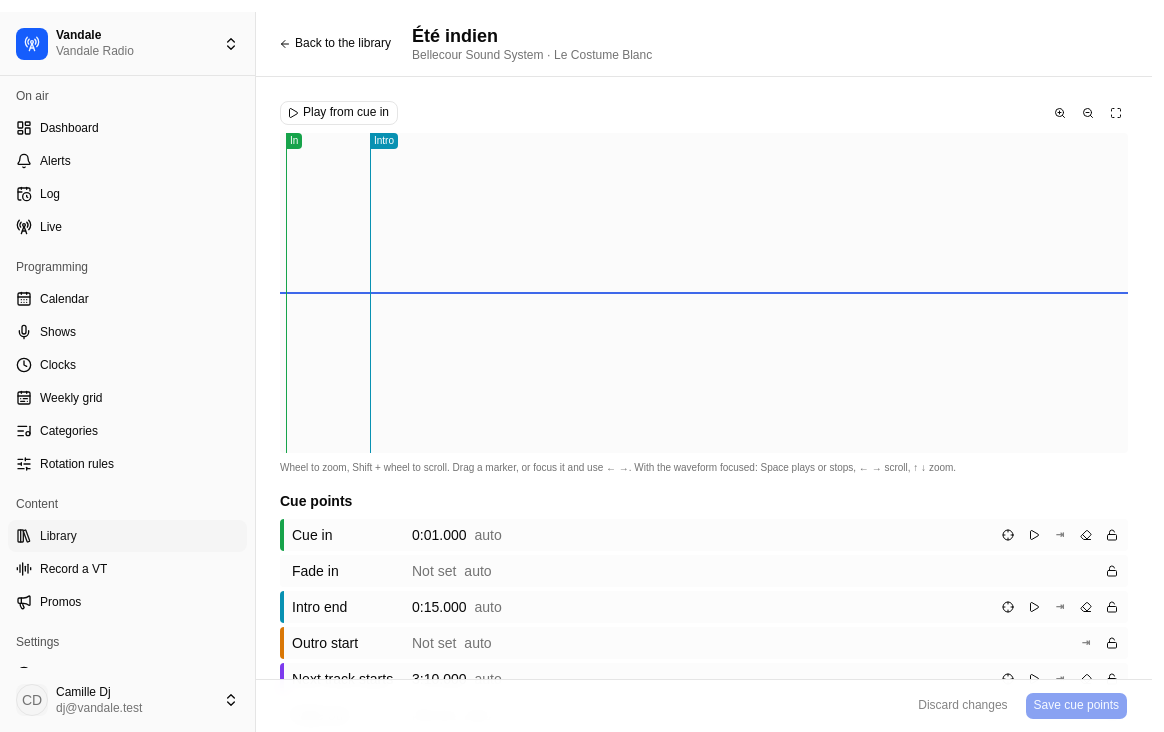
Test case: cue editor page › saves a moved marker
This screenshot has width=1164, height=732.
Check: the button "Save cue points" is disabled, box [1025,692,1128,720]
Press ArrowRight in the slider named "Cue in", box [286,133,302,149]
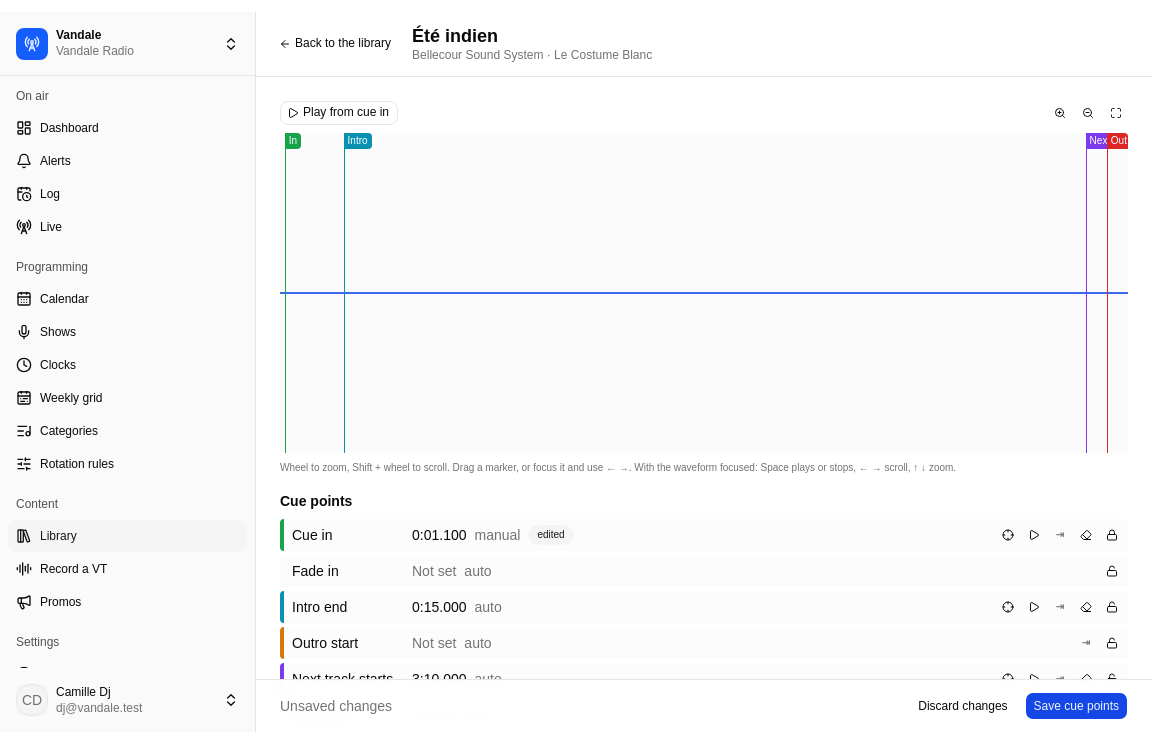
Check: the text "Unsaved changes" is shown, box [280,696,392,716]
Click the button "Save cue points": point(1076, 706) [1025,692,1128,720]
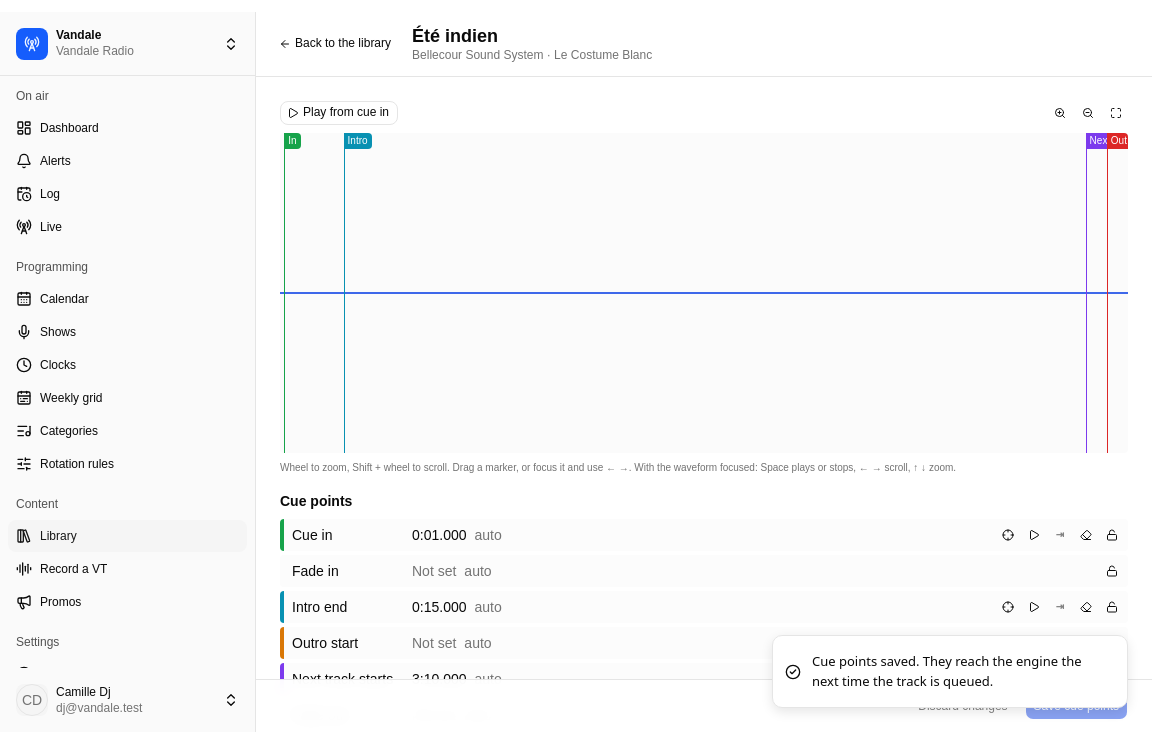
Check: the text "Unsaved changes" is gone
